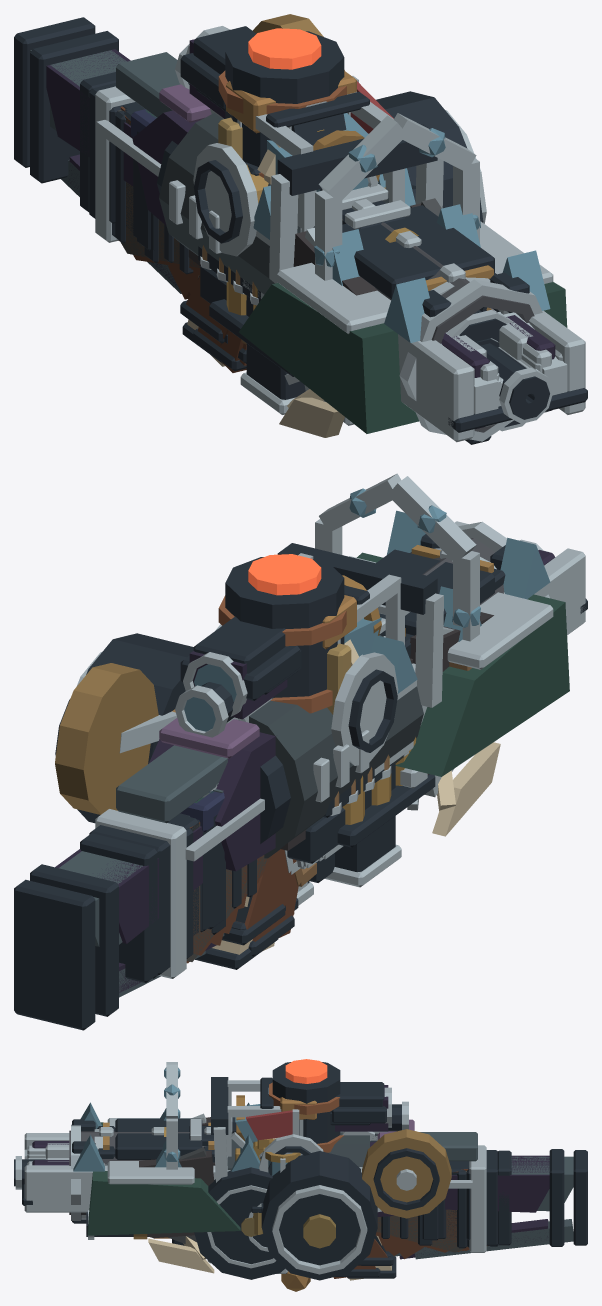
Rendered from arsenal-mechanical.glb.
3 views of the same model, one above another, from view 1: azimuth 30°, elevation 25°; view 2: azimuth 150°, elevation 25°; view 3: azimuth 270°, elevation 25° (orthographic). The views are drawn at different scales.
Visible parts, largest first — view 1: pyroclast_static_dark, seam_sweeper_static_shell, yama_call_static_shell, tandem_rail_static_edge, door_frame_static_edge, tandem_rail_static_glass, minigun_shredder_static_dark, minigun_shredder_static_shell, seam_sweeper_static_edge, minigun_shredder_static_edge, yama_call_static_dark, gauss_lancer_static_shell (+42 smaller); view 2: seam_sweeper_static_shell, pyroclast_static_dark, gauss_lancer_static_dark, counterweight_static_trim, minigun_shredder_static_dark, yama_call_static_shell, minigun_shredder_static_shell, gauss_lancer_static_shell, door_frame_static_edge, backstep_bellows_static_edge, tandem_rail_static_glass, seam_sweeper_static_edge (+36 smaller); view 3: minigun_shredder_reload_dark, seam_sweeper_static_shell, pyroclast_static_dark, smg_hornet_reload_dark, counterweight_static_trim, yama_call_static_shell, gauss_lancer_static_shell, tandem_rail_static_edge, counterweight_static_dark, minigun_shredder_reload_edge, minigun_shredder_static_dark, backstep_bellows_static_edge (+34 smaller).
Part boxes in pixels (left/top/right/bottom): pyroclast_static_dark: left=137, top=31, right=506, bottom=335; seam_sweeper_static_shell: left=239, top=281, right=567, bottom=433; yama_call_static_shell: left=46, top=39, right=555, bottom=429; tandem_rail_static_edge: left=242, top=231, right=585, bottom=442; door_frame_static_edge: left=315, top=113, right=562, bottom=360; tandem_rail_static_glass: left=253, top=168, right=550, bottom=342; minigun_shredder_static_dark: left=157, top=26, right=437, bottom=316; minigun_shredder_static_shell: left=159, top=113, right=388, bottom=294; seam_sweeper_static_edge: left=277, top=221, right=553, bottom=333; minigun_shredder_static_edge: left=169, top=158, right=443, bottom=283; yama_call_static_dark: left=30, top=31, right=543, bottom=413; gauss_lancer_static_shell: left=30, top=50, right=181, bottom=293; seam_sweeper_static_shell: left=357, top=552, right=569, bottom=776; pyroclast_static_dark: left=180, top=549, right=494, bottom=929; gauss_lancer_static_dark: left=14, top=682, right=238, bottom=1030; counterweight_static_trim: left=55, top=663, right=158, bottom=814; minigun_shredder_static_dark: left=193, top=543, right=437, bottom=863; yama_call_static_shell: left=55, top=550, right=555, bottom=992; minigun_shredder_static_shell: left=249, top=635, right=423, bottom=858; gauss_lancer_static_shell: left=59, top=745, right=227, bottom=997; door_frame_static_edge: left=315, top=473, right=479, bottom=641; backstep_bellows_static_edge: left=95, top=798, right=306, bottom=978; tandem_rail_static_glass: left=371, top=510, right=550, bottom=693; seam_sweeper_static_edge: left=349, top=556, right=553, bottom=788; minigun_shredder_reload_dark: left=251, top=1151, right=377, bottom=1280; seam_sweeper_static_shell: left=87, top=1122, right=240, bottom=1235; pyroclast_static_dark: left=115, top=1062, right=438, bottom=1240; smg_hornet_reload_dark: left=194, top=1167, right=284, bottom=1279; counterweight_static_trim: left=362, top=1129, right=451, bottom=1218; yama_call_static_shell: left=32, top=1085, right=549, bottom=1259; gauss_lancer_static_shell: left=415, top=1132, right=573, bottom=1259; tandem_rail_static_edge: left=24, top=1133, right=230, bottom=1212; counterweight_static_dark: left=373, top=1148, right=498, bottom=1245; minigun_shredder_reload_edge: left=272, top=1185, right=367, bottom=1274; minigun_shredder_static_dark: left=211, top=1077, right=384, bottom=1142; backstep_bellows_static_edge: left=448, top=1145, right=486, bottom=1252.
Bounding box in the file's own units: 0.735 × 0.9032 × 2.18.
